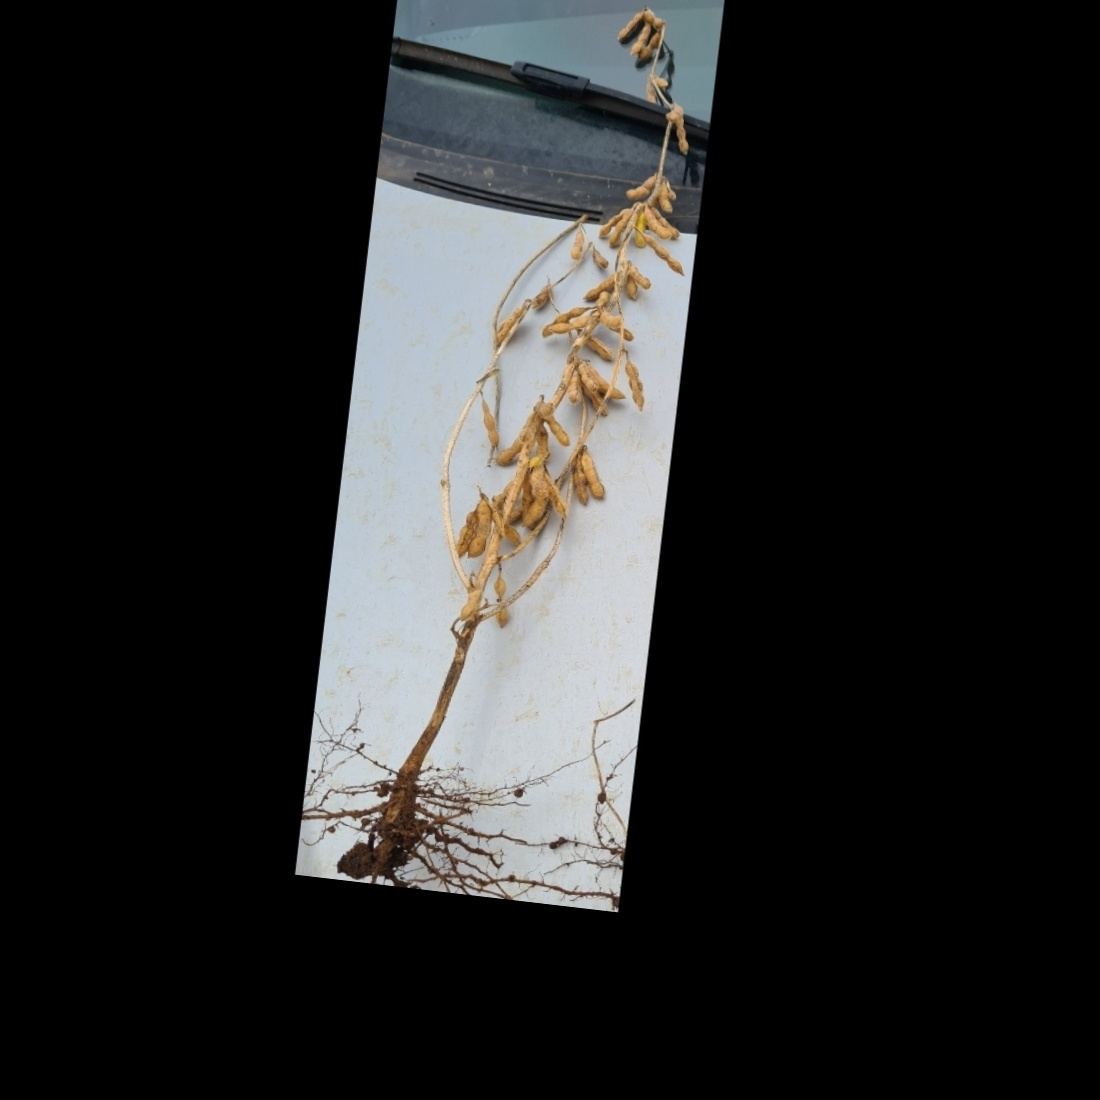pod: (465, 390, 510, 452), (615, 354, 654, 419), (460, 491, 496, 561), (638, 232, 690, 277), (574, 450, 614, 505), (449, 505, 485, 561), (536, 406, 576, 450), (539, 309, 592, 337), (638, 205, 679, 242), (614, 5, 649, 47), (666, 113, 695, 158), (634, 30, 663, 68), (628, 19, 651, 60)
soy: (316, 0, 712, 913)
